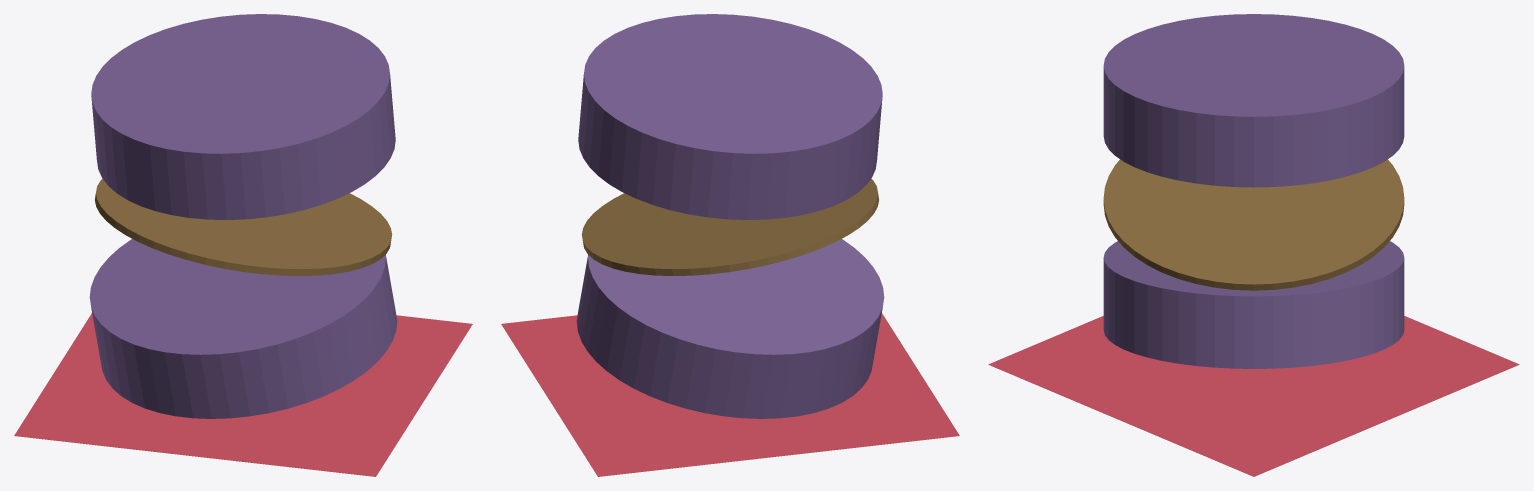
File: UCU.glb
The picture shows the model from 3 angles, left to right: view 1: azimuth 30°, elevation 25°; view 2: azimuth 150°, elevation 25°; view 3: azimuth 270°, elevation 25°; orthographic projection.
Parts seen in each view (by area): view 1: Mesh_Mesh_head_geo.001_lambert2SG.001; view 2: Mesh_Mesh_head_geo.001_lambert2SG.001; view 3: Mesh_Mesh_head_geo.001_lambert2SG.001.
Boxes of the visible parts, bbox=[...] form: Mesh_Mesh_head_geo.001_lambert2SG.001: bbox=[14, 14, 472, 476]; Mesh_Mesh_head_geo.001_lambert2SG.001: bbox=[501, 14, 959, 476]; Mesh_Mesh_head_geo.001_lambert2SG.001: bbox=[988, 14, 1519, 476].
Size of the model in its own units: 0.0354 by 0.0227 by 0.0354.
